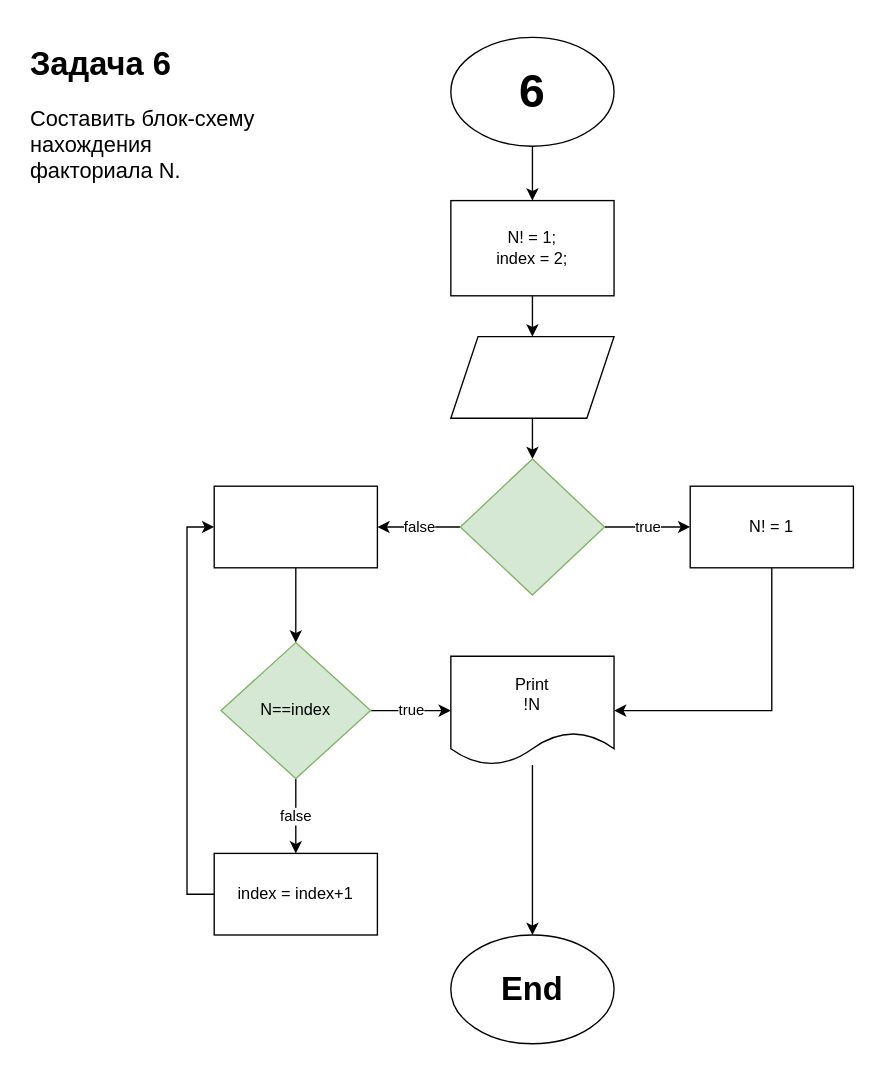
Some shapes in this 877 by 1068 pixel diagram are drawn without their labels. Each missing label, with the centre of its shape:
"Enter N" goes at (x=531, y=376).
"N! = N!*index" goes at (x=295, y=526).
"N==0 || N==1" goes at (x=532, y=526).
